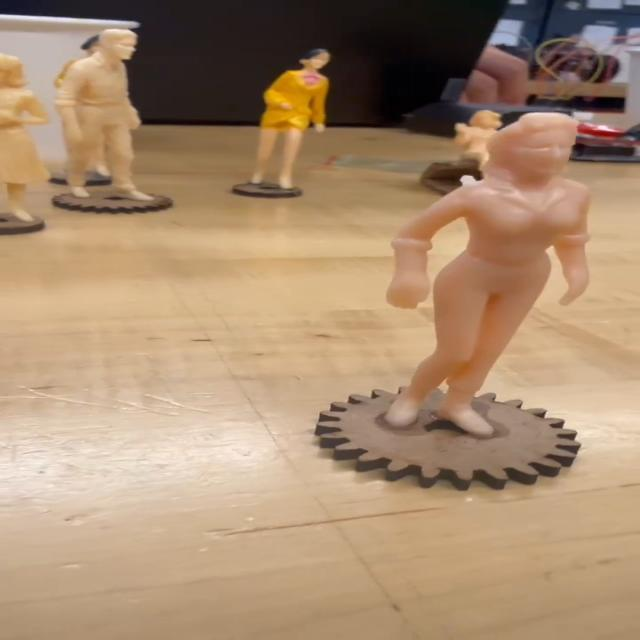Unauthorized: (379, 107, 600, 430)
